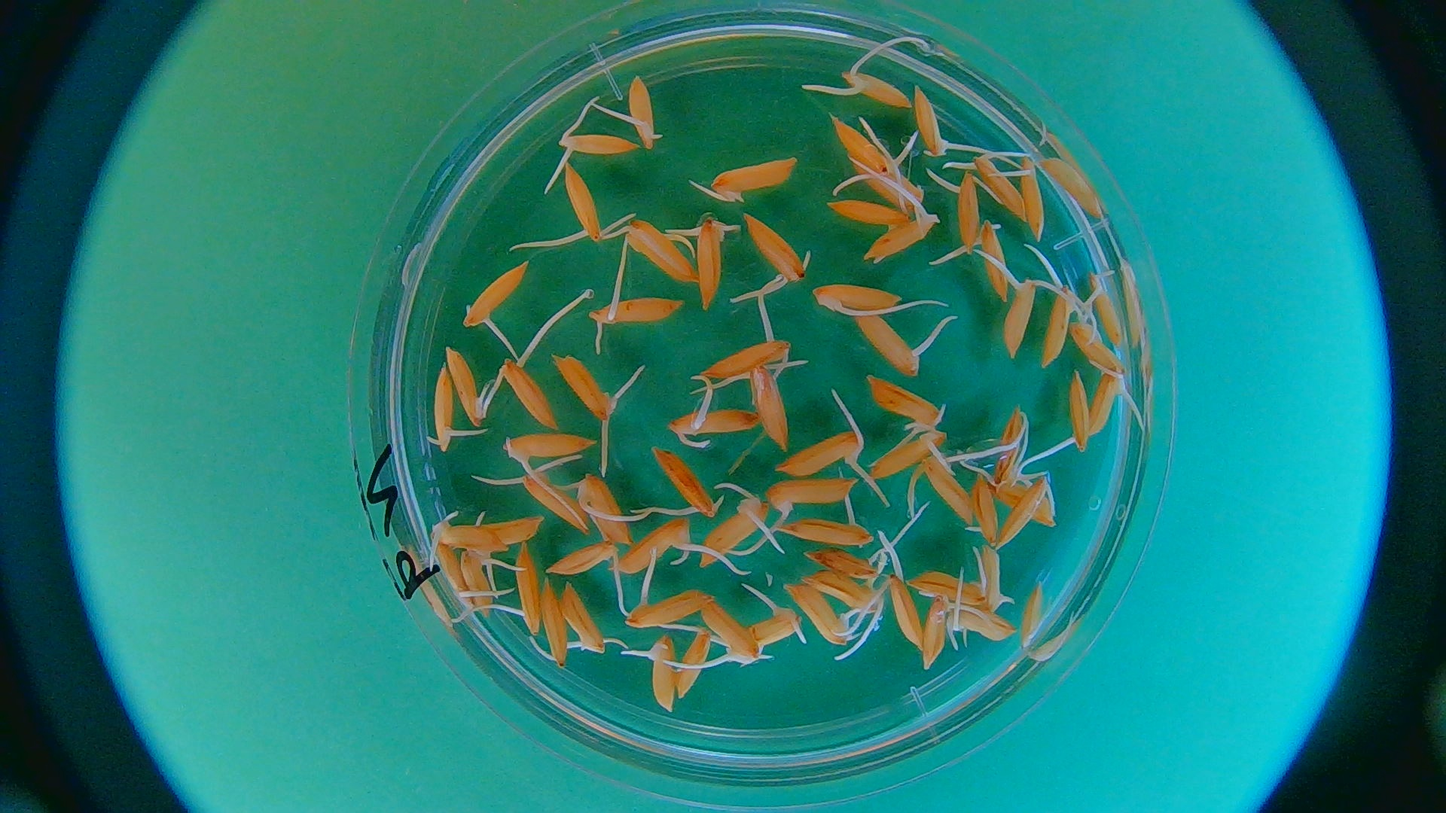no: (1037, 148, 1103, 218), (851, 157, 926, 210), (999, 486, 1061, 521), (1021, 582, 1045, 653)
yes: (699, 496, 771, 568), (551, 348, 620, 422), (648, 448, 717, 518), (520, 464, 589, 532), (615, 517, 694, 576), (856, 313, 926, 379), (828, 114, 900, 178), (746, 215, 810, 287), (786, 580, 853, 647), (868, 376, 947, 431), (461, 260, 527, 324), (579, 473, 636, 546), (921, 452, 975, 528), (695, 603, 758, 668), (502, 352, 555, 429), (697, 335, 789, 379), (862, 215, 944, 263), (776, 432, 865, 476), (630, 221, 692, 284), (966, 156, 1024, 223), (667, 408, 761, 449), (996, 473, 1050, 544), (709, 157, 797, 200), (870, 430, 948, 477), (560, 160, 603, 245), (801, 571, 885, 614), (733, 607, 811, 653), (999, 266, 1036, 361), (505, 431, 595, 470), (1069, 321, 1130, 378), (616, 76, 664, 148), (749, 366, 789, 452), (1039, 280, 1077, 370), (774, 513, 874, 547), (799, 544, 889, 581), (509, 539, 543, 636), (426, 519, 508, 559), (587, 296, 683, 330), (905, 568, 987, 607), (444, 349, 486, 425), (700, 215, 732, 313), (943, 172, 981, 254), (628, 591, 714, 627), (993, 405, 1029, 491), (1084, 276, 1127, 348), (438, 538, 477, 617), (811, 284, 902, 317), (674, 623, 713, 699), (977, 538, 1015, 616), (840, 69, 912, 109), (947, 606, 1017, 647), (880, 564, 914, 647), (1014, 154, 1047, 239), (909, 84, 945, 160), (963, 471, 999, 547), (767, 478, 856, 508), (562, 584, 601, 652), (430, 364, 460, 452), (982, 218, 1013, 301), (459, 547, 496, 615), (547, 544, 621, 578), (1087, 373, 1126, 437), (828, 198, 910, 227), (542, 579, 569, 664), (646, 634, 677, 707), (920, 598, 950, 666), (563, 129, 639, 155), (1066, 372, 1091, 451)
